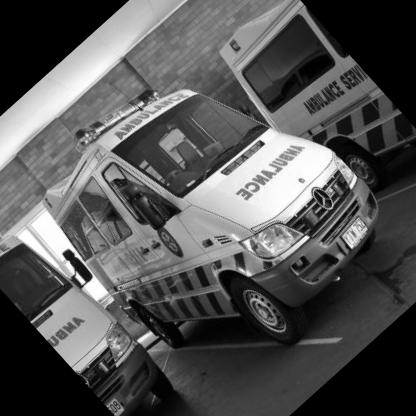ambulance: (18, 15, 413, 411), (1, 197, 200, 416), (216, 1, 416, 205)
